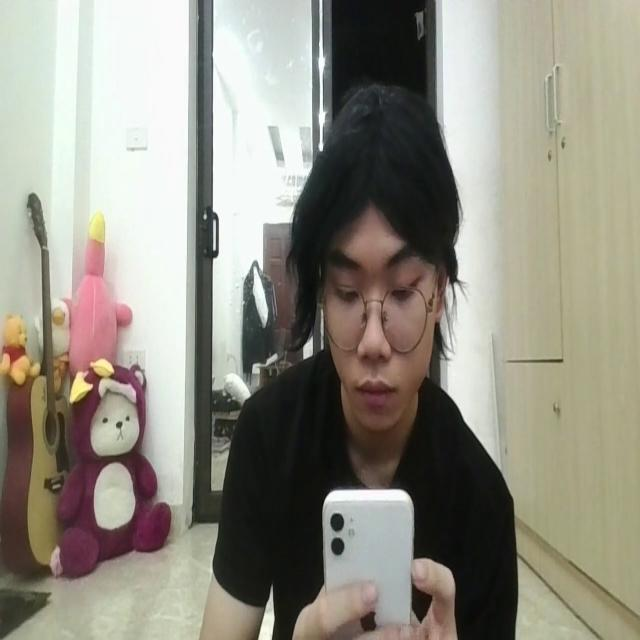phone: (322, 479, 416, 640)
student: (209, 70, 516, 640)
